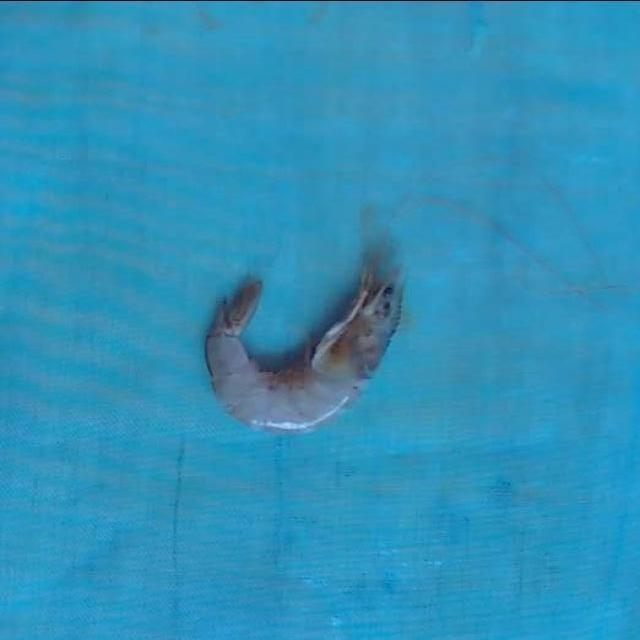shrimp: (205, 270, 402, 431)
